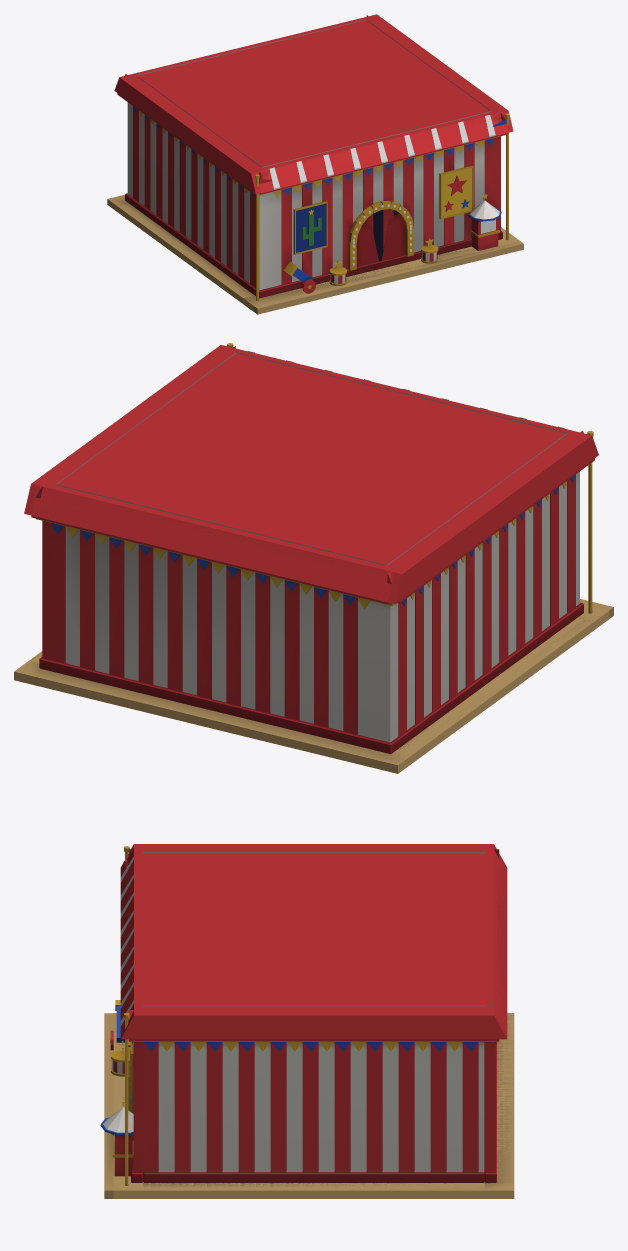
The model's file is CactusAcrobatsFloor.fbx.
The picture shows the model from 3 angles, top to bottom: view 1: azimuth 30°, elevation 25°; view 2: azimuth 150°, elevation 25°; view 3: azimuth 270°, elevation 25°; orthographic projection. The views are drawn at different scales.
Visible parts, largest first — view 1: CI_S_All, CI_F_Rings, CI_F_Smooth, CI_F_Props, CI_F_Quiet; view 2: CI_S_All, CI_F_Rings, CI_F_Smooth, CI_F_Quiet; view 3: CI_S_All, CI_F_Rings, CI_F_Smooth, CI_F_Quiet, CI_F_Props.
Boxes of the visible parts, x1,y1,x2,y2 form: CI_S_All: (107, 14, 520, 311); CI_F_Rings: (117, 15, 508, 290); CI_F_Smooth: (117, 93, 523, 314); CI_F_Props: (269, 115, 499, 293); CI_F_Quiet: (108, 194, 523, 308); CI_S_All: (14, 345, 609, 773); CI_F_Rings: (31, 346, 594, 753); CI_F_Smooth: (31, 343, 613, 754); CI_F_Quiet: (14, 599, 613, 764); CI_S_All: (113, 844, 514, 1198); CI_F_Rings: (120, 848, 507, 1182); CI_F_Smooth: (100, 846, 499, 1198); CI_F_Quiet: (104, 1013, 513, 1190); CI_F_Props: (103, 856, 134, 1176).
Size of the model in its own units: 60 by 20 by 60.
